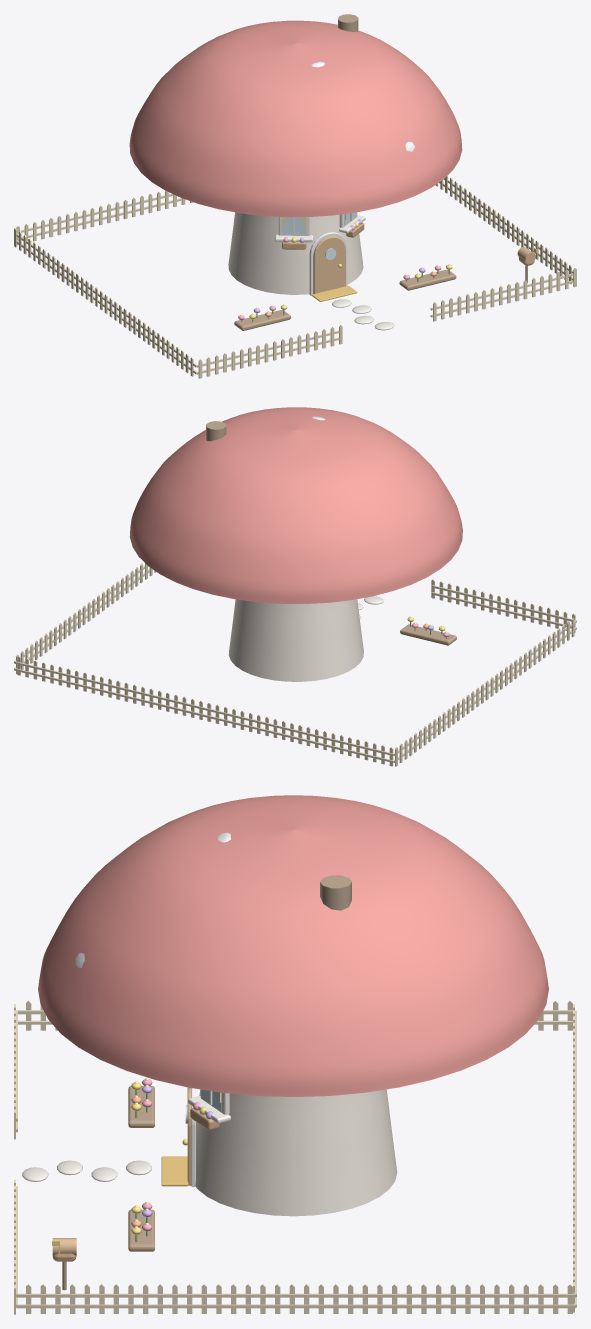
File: building_forest_L07.glb
3 renders of one model, top to bottom at view 1: azimuth 30°, elevation 25°; view 2: azimuth 150°, elevation 25°; view 3: azimuth 270°, elevation 25°, orthographic. The views are drawn at different scales.
Parts seen in each view (by area): view 1: Body, forest_L7; view 2: Body, forest_L7; view 3: Body, forest_L7.
Part boxes in pixels (x1,y1,x2,y2): Body: [129, 14, 462, 301]; forest_L7: [14, 175, 576, 378]; Body: [129, 407, 462, 681]; forest_L7: [14, 563, 576, 766]; Body: [38, 795, 548, 1216]; forest_L7: [14, 1001, 576, 1314].
Bounding box in the file's own units: 25.35 × 14.27 × 21.15.
